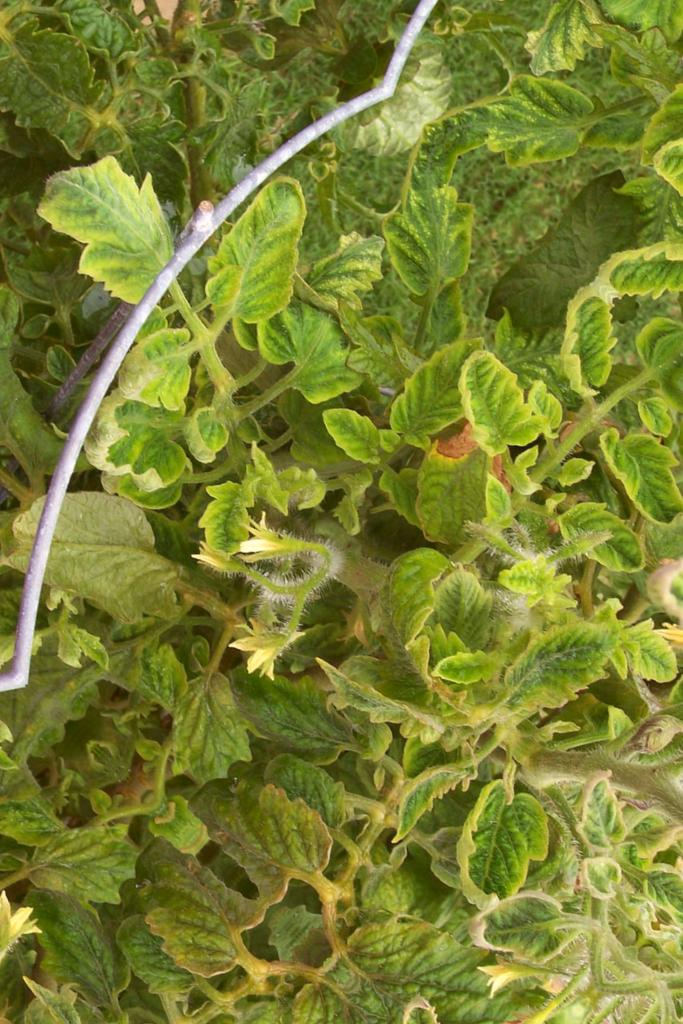Tomato leaf yellow virus: (7, 123, 233, 344), (460, 576, 657, 777), (175, 169, 357, 354), (411, 767, 586, 943), (415, 328, 589, 501), (369, 298, 529, 465), (379, 557, 523, 702), (509, 265, 654, 409), (91, 295, 230, 435), (572, 410, 683, 549), (545, 487, 660, 599), (302, 387, 415, 497), (580, 593, 683, 710), (182, 461, 290, 571), (0, 466, 5, 597)
